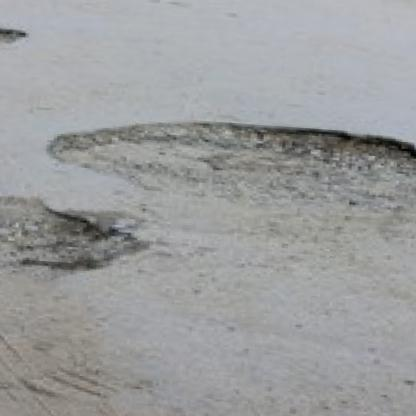pothole: (40, 105, 416, 229), (0, 188, 155, 305), (0, 8, 30, 72)
